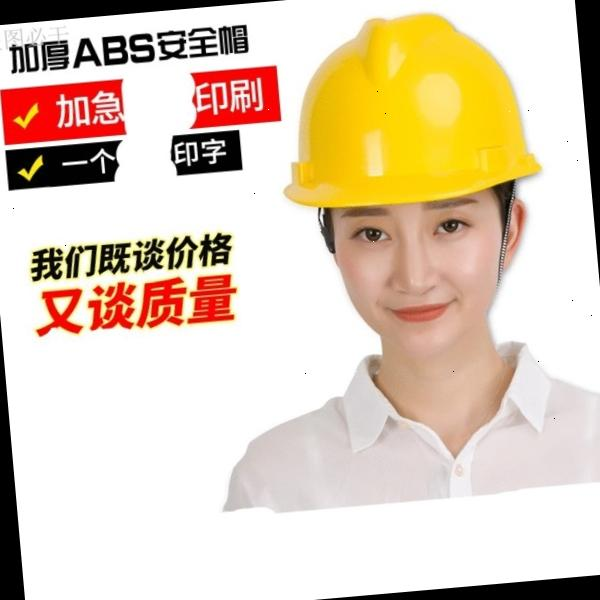helmet: (262, 0, 552, 221)
